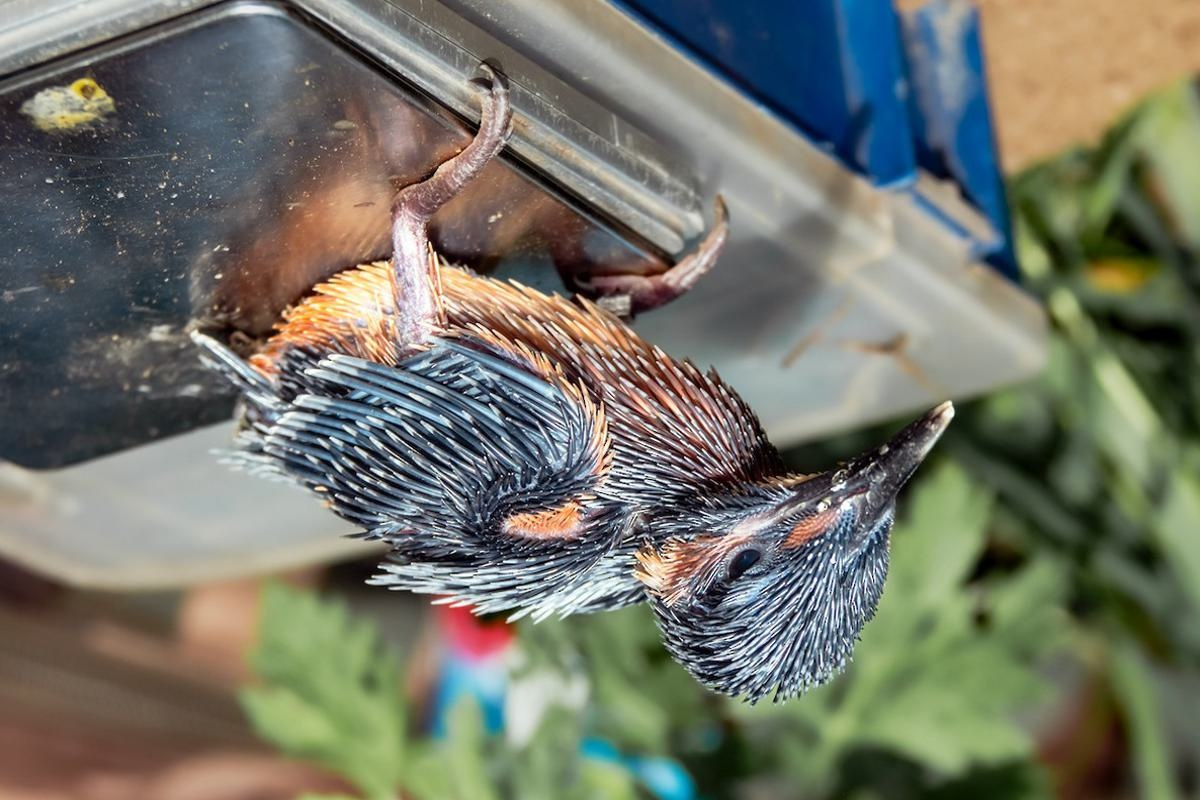kingfisher: (223, 74, 944, 722)
